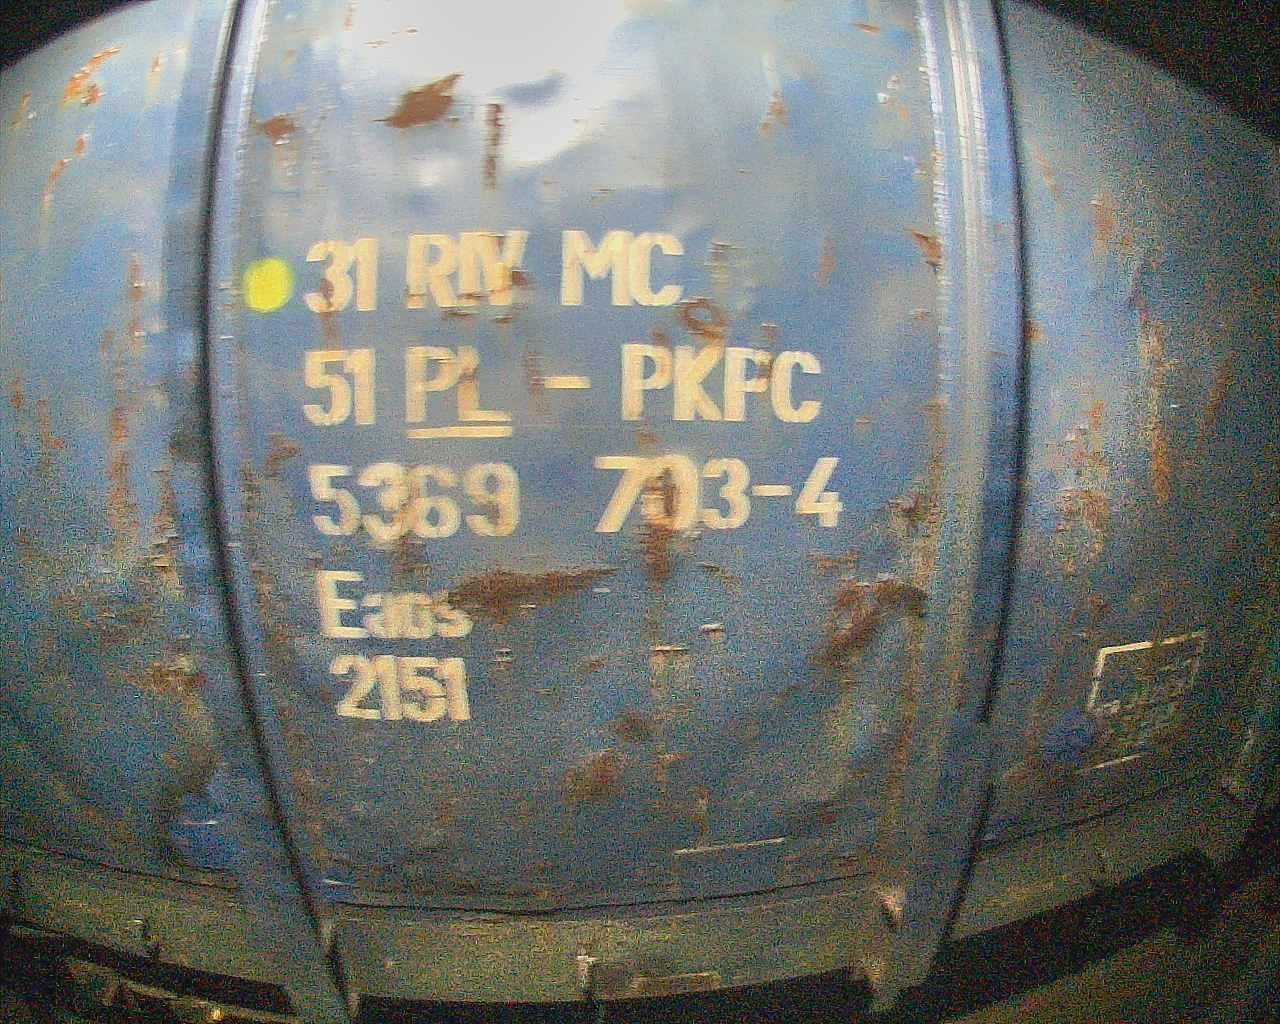UIC: (299, 227, 846, 724)
